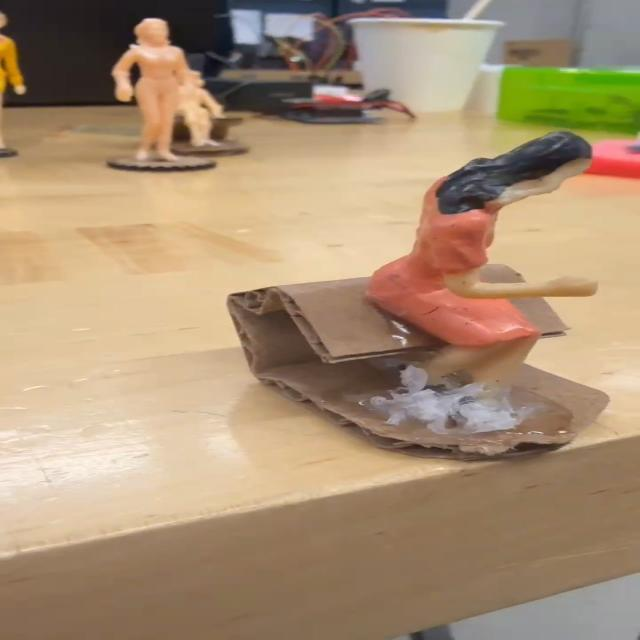Authorized: (356, 127, 602, 431)
